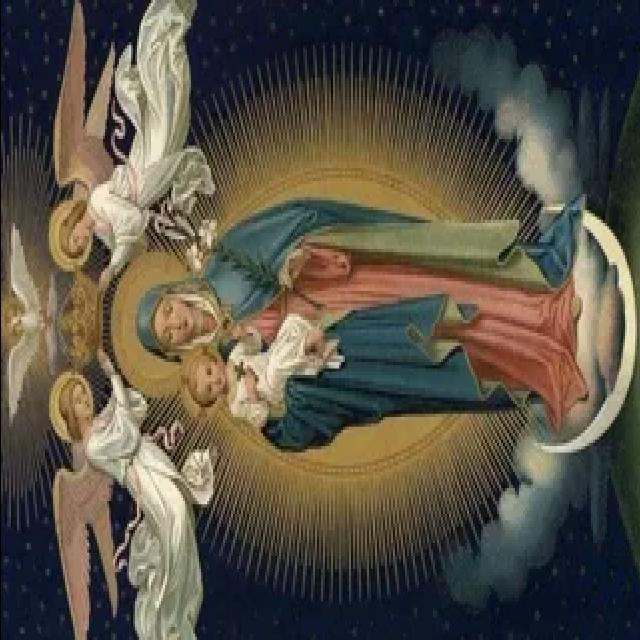mother of god: (129, 191, 593, 477)
